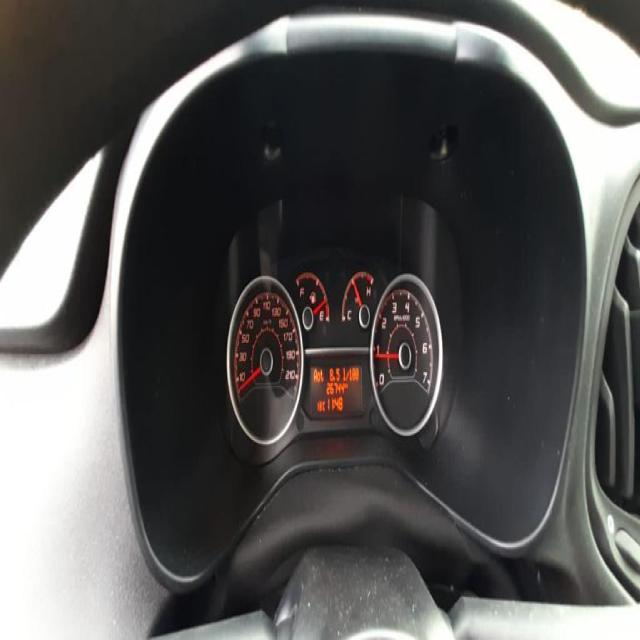odometer: (308, 361, 364, 416)
